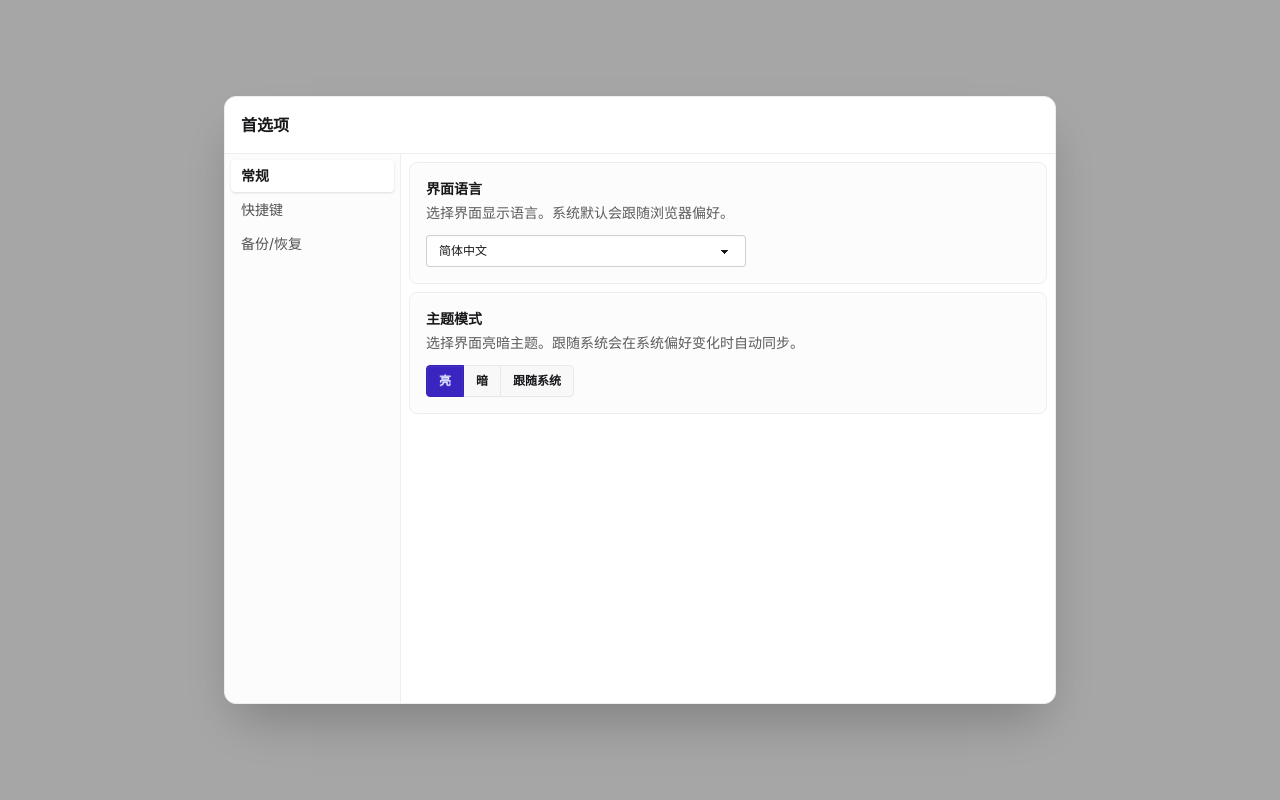
Test case: preferencesModal › switches categories and renders shortcut list plus backup panel
Click the button with test id "preferences-tab-shortcuts": (312, 210) [231, 194, 394, 226]
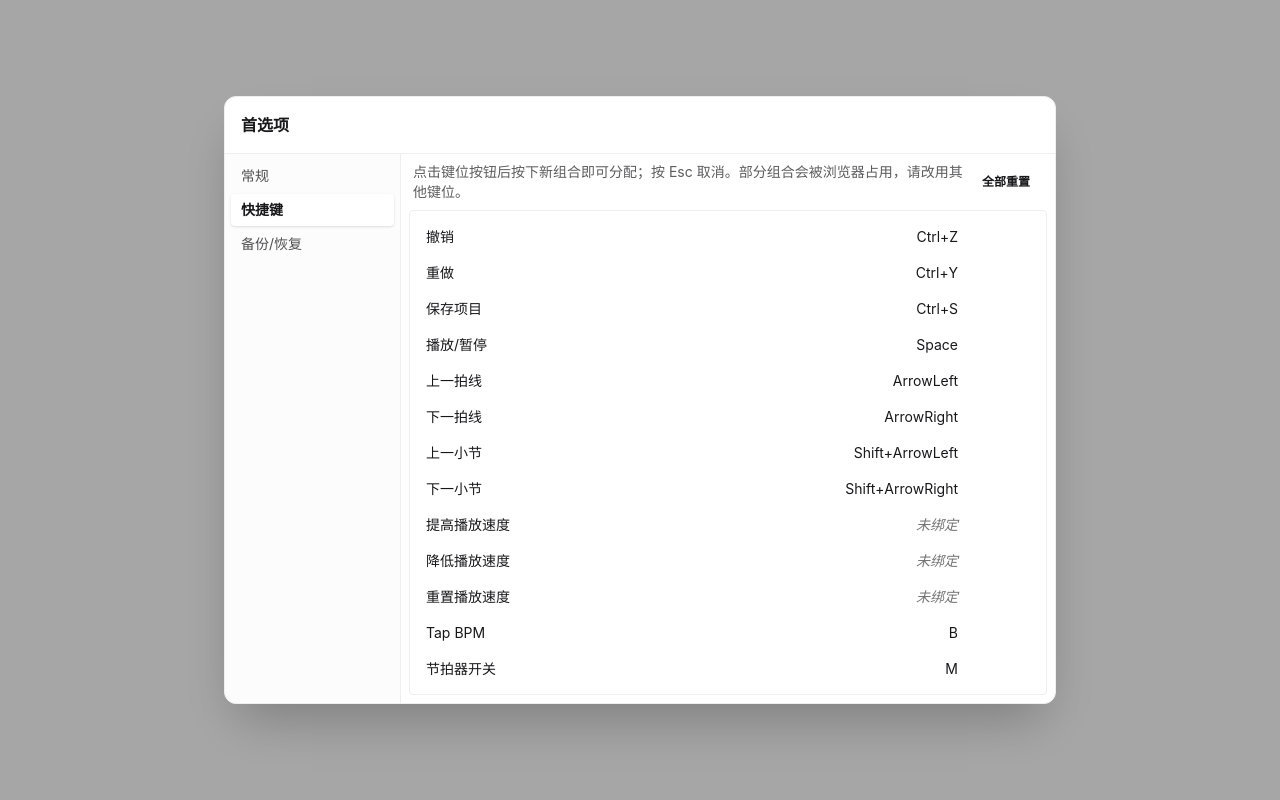
Expected: the list with test id "preferences-shortcuts-list" is shown, [409, 210, 1047, 695]
Expected: the button with test id "preferences-shortcuts-reset-all" is shown, [969, 166, 1043, 198]
Click the button with test id "preferences-tab-backup": (312, 244) [231, 228, 394, 260]
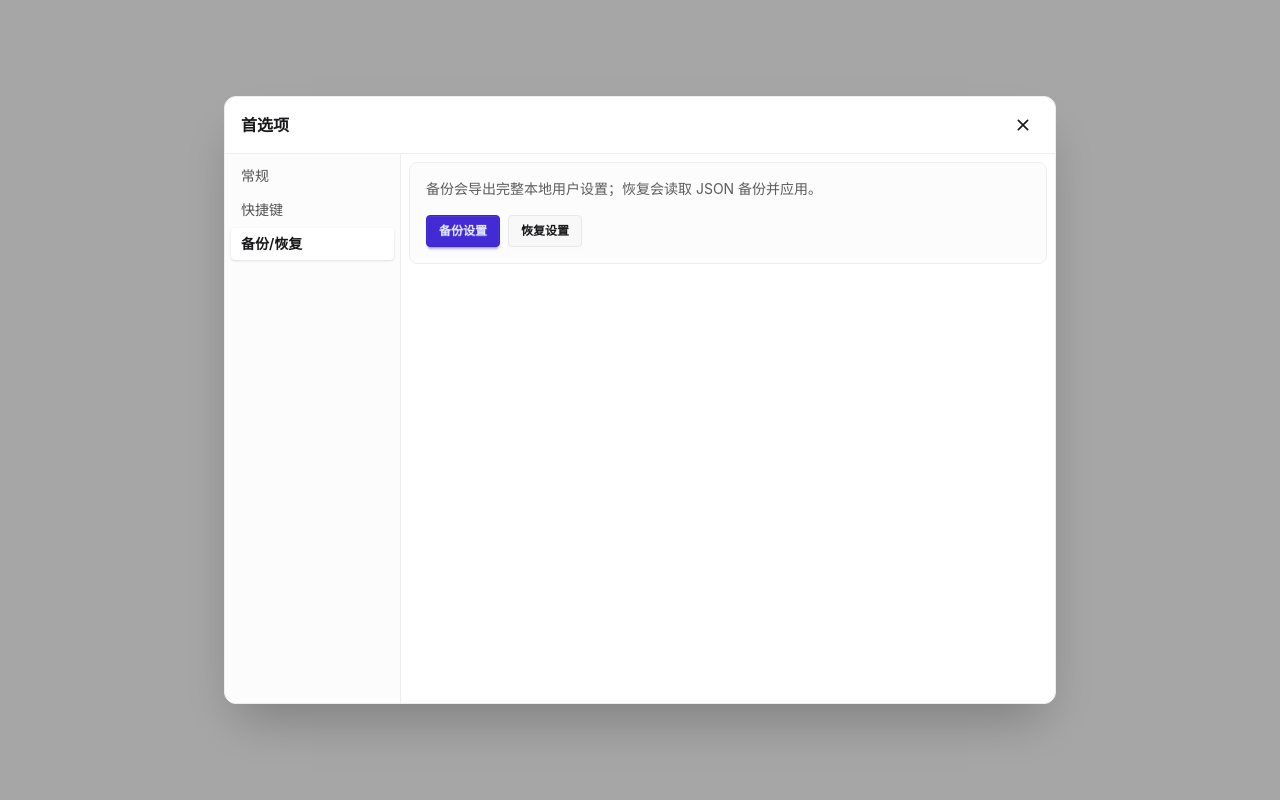
Expected: the element with test id "preferences-panel-backup" is shown, [401, 154, 1055, 272]
Expected: the button with test id "preferences-backup" is shown, [426, 215, 500, 247]
Expected: the button with test id "preferences-restore" is shown, [508, 215, 582, 247]
